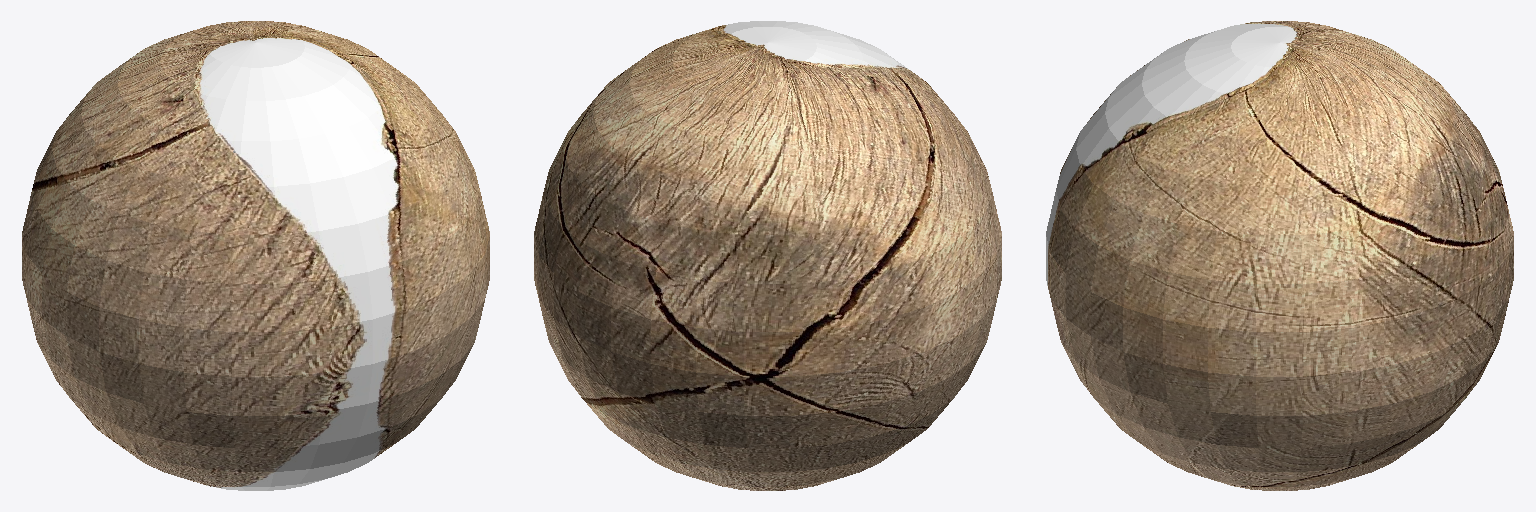
3 views of the same model, side by side, from view 1: azimuth 30°, elevation 25°; view 2: azimuth 150°, elevation 25°; view 3: azimuth 270°, elevation 25° (orthographic).
Visible parts, largest first — view 1: Ball; view 2: Ball; view 3: Ball.
Boxes of the visible parts, x1=… form: Ball: x1=22, y1=21, x2=489, y2=490; Ball: x1=534, y1=21, x2=1001, y2=490; Ball: x1=1046, y1=21, x2=1513, y2=490.
Bounding box in the file's own units: 0.9891 × 1 × 0.9945.
Materials: 2 (1 with a texture image).